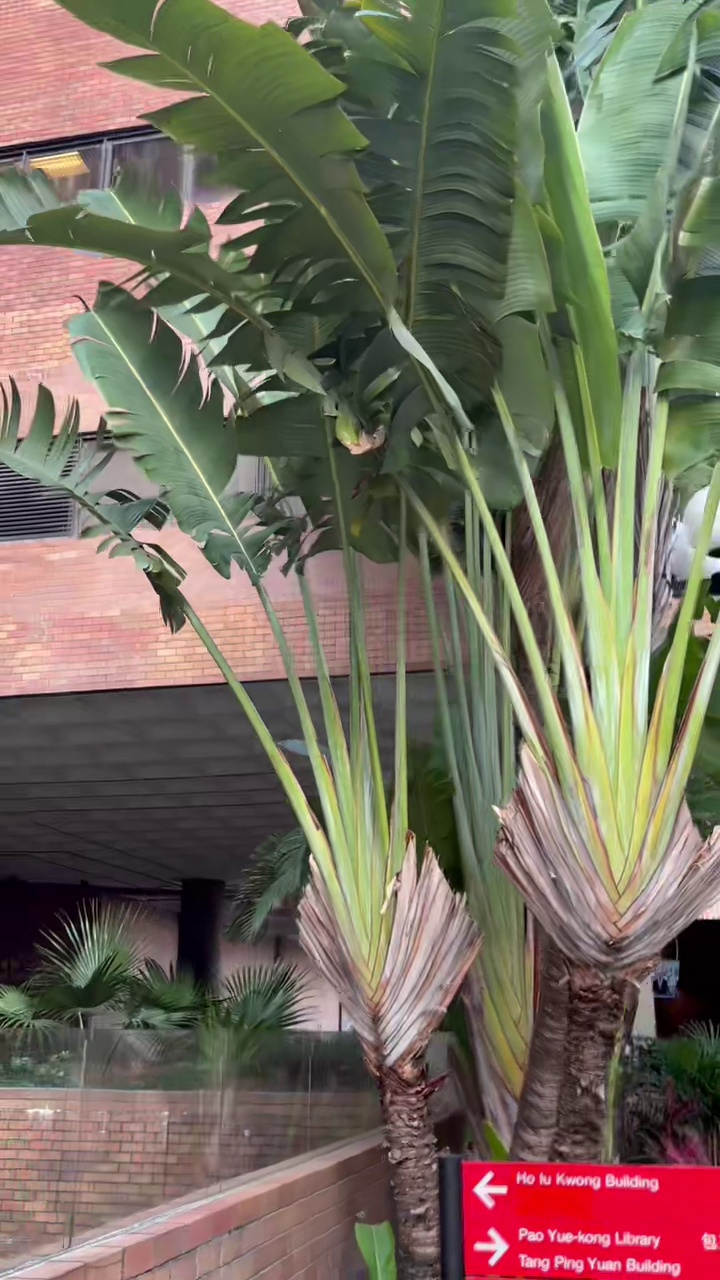Travellers-tree: (0, 0, 719, 1263)
